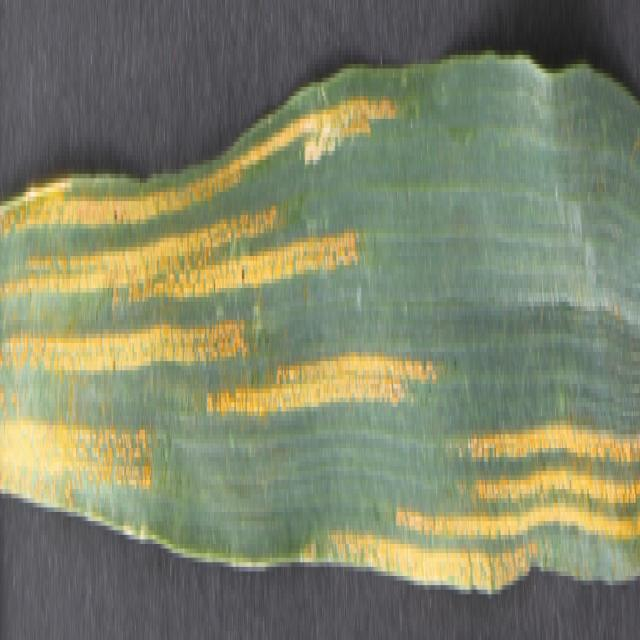leaf rust: (2, 137, 435, 498), (436, 384, 640, 590)
